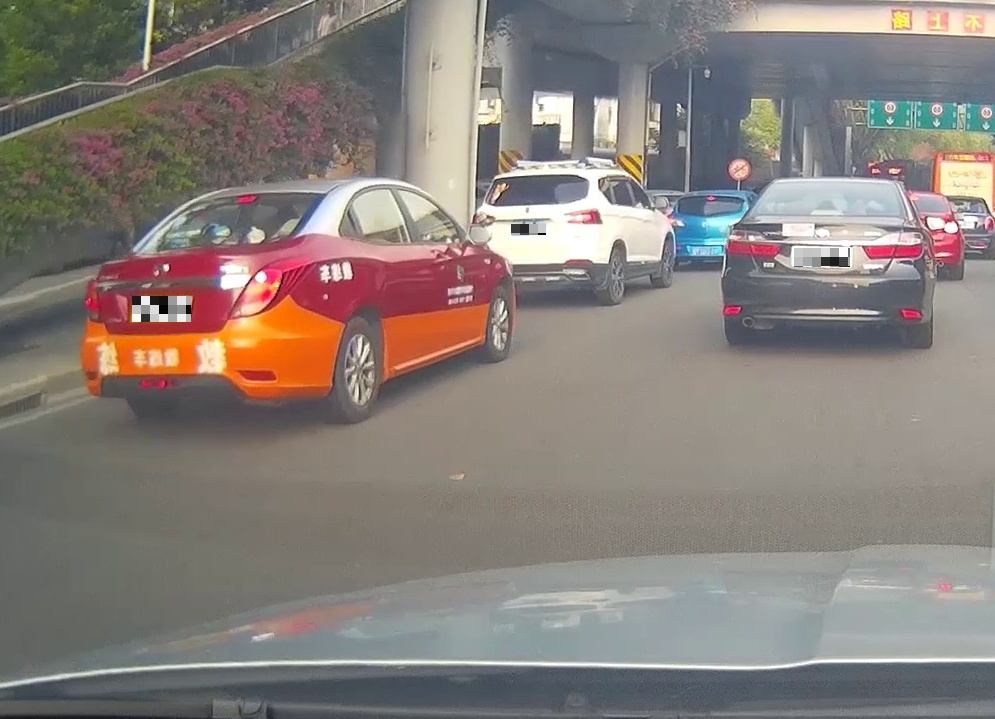L_light: (723, 229, 782, 256), (82, 278, 102, 322), (471, 212, 495, 228)
R_light: (229, 269, 282, 319), (861, 232, 924, 260), (564, 208, 603, 225)
T_light: (234, 194, 259, 203), (809, 209, 844, 215), (528, 176, 549, 179)
day-no: (720, 177, 931, 345), (470, 168, 605, 305)
day-right: (78, 184, 336, 420)
plate_1: (132, 296, 191, 322)
plate_2: (511, 224, 546, 235)
plate_3: (794, 248, 850, 267)
